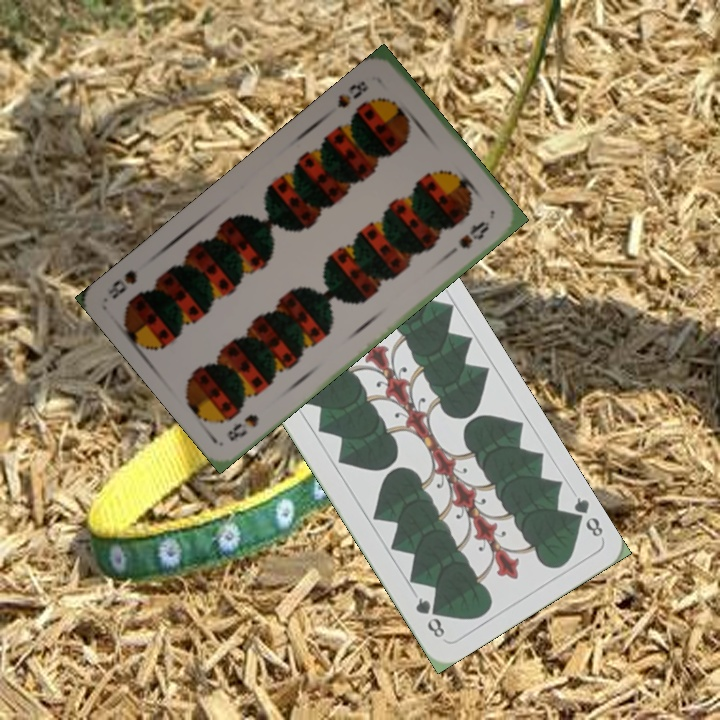G8: (565, 492, 606, 540)
S8: (333, 76, 371, 111), (223, 410, 261, 445)
